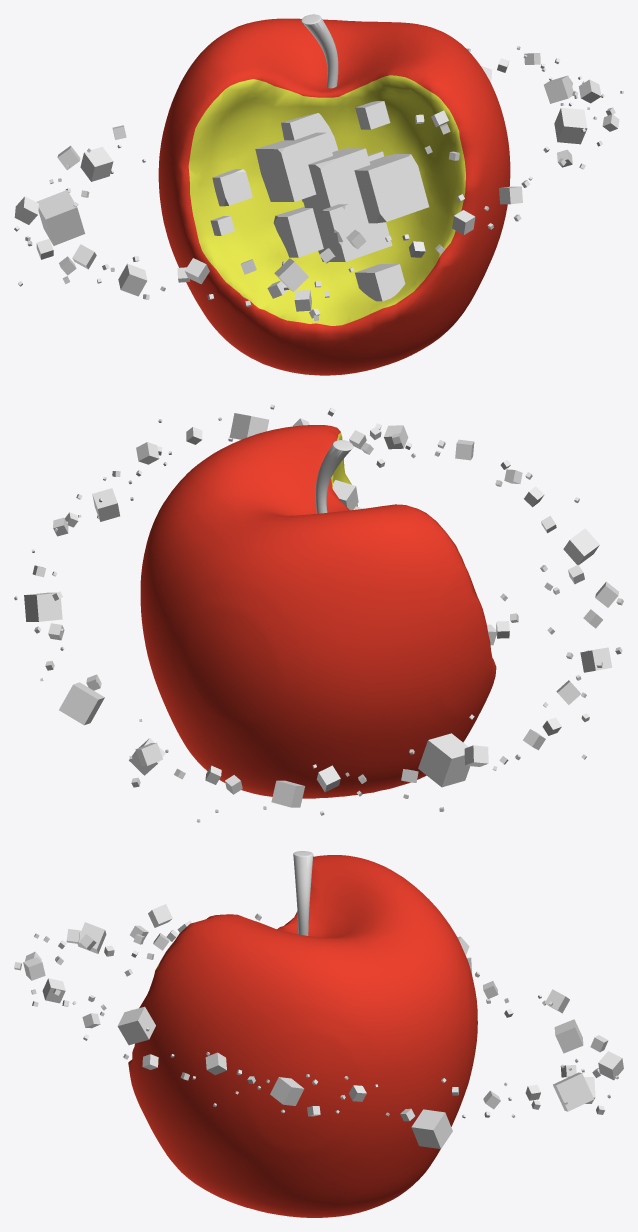
File: newton_apple.fbx
3 views of the same model, one above another, from view 1: azimuth 30°, elevation 25°; view 2: azimuth 150°, elevation 25°; view 3: azimuth 270°, elevation 25° (orthographic). The views are drawn at different scales.
Visible parts, largest first — view 1: apple crater.001, 立方体.159, 立方体.002, 立方体.009, 立方体.001, 立方体.007, 立方体.013, geng, 立方体.010, 立方体.003, 立方体.012, 立方体.011; view 2: apple crater.001, 立方体.159, geng; view 3: apple crater.001, 立方体.159, geng.
Boxes of the visible parts, x1,y1,x2,y2 form: apple crater.001: (158, 18, 510, 375); 立方体.159: (14, 46, 623, 299); 立方体.002: (302, 148, 392, 261); 立方体.009: (354, 154, 429, 223); 立方体.001: (255, 132, 332, 201); 立方体.007: (273, 207, 323, 257); 立方体.013: (355, 264, 405, 301); geng: (301, 14, 338, 88); 立方体.010: (212, 169, 252, 206); 立方体.003: (281, 113, 337, 201); 立方体.012: (355, 101, 390, 129); 立方体.011: (320, 204, 354, 232); apple crater.001: (140, 425, 496, 798); 立方体.159: (14, 404, 623, 822); geng: (315, 440, 353, 513); apple crater.001: (128, 855, 477, 1217); 立方体.159: (14, 904, 623, 1148); geng: (293, 851, 313, 935).
Bounding box in the file's own units: 2328 × 1355 × 2329.
